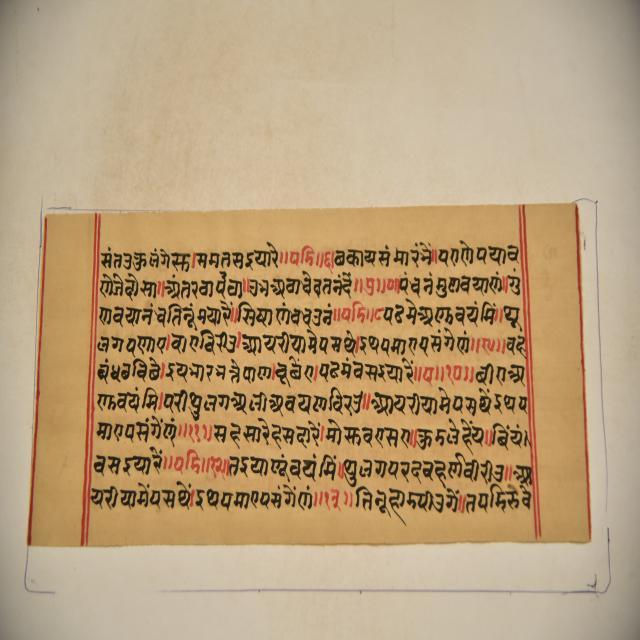text_paragraph: (26, 201, 591, 548)
